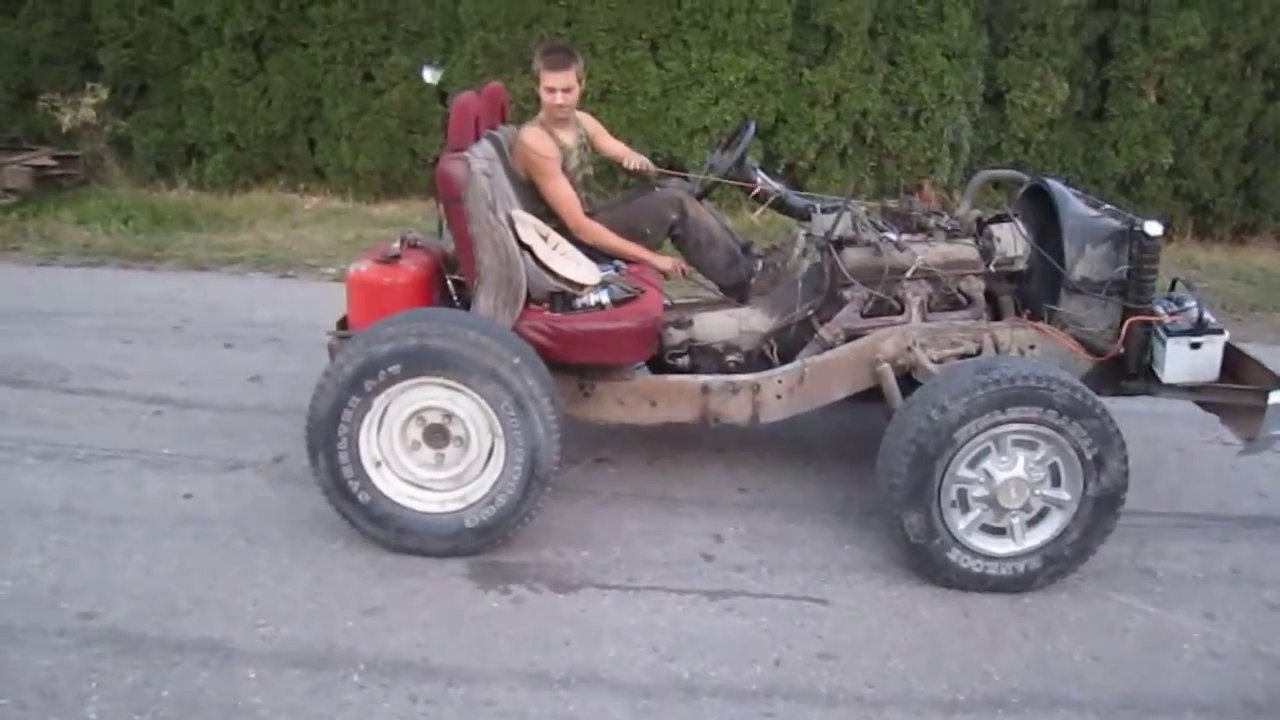person: (508, 42, 811, 305)
